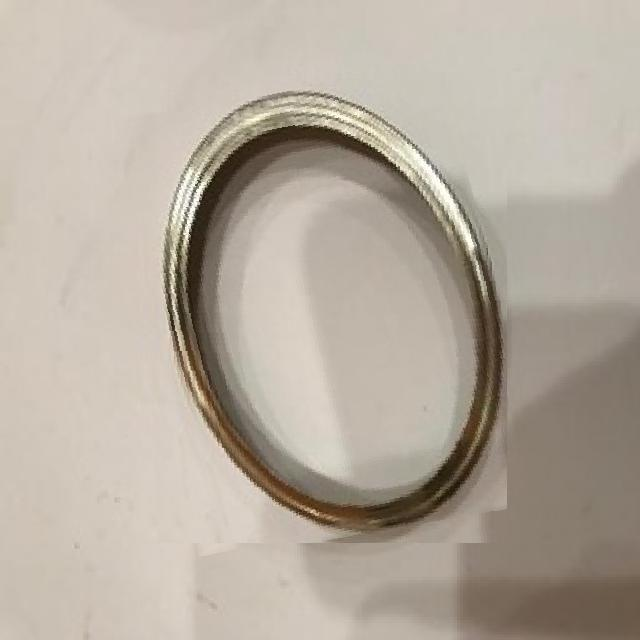recyclable: (134, 70, 507, 543)
